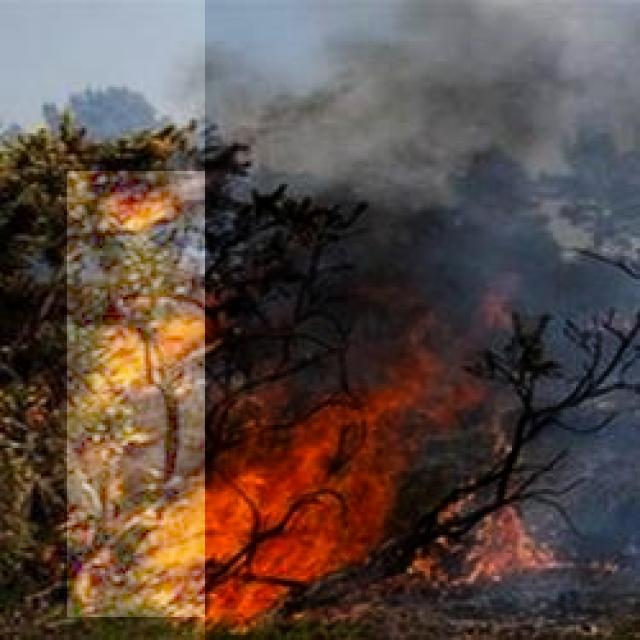Fire: (67, 171, 427, 617)
Smoke: (205, 0, 640, 640)
